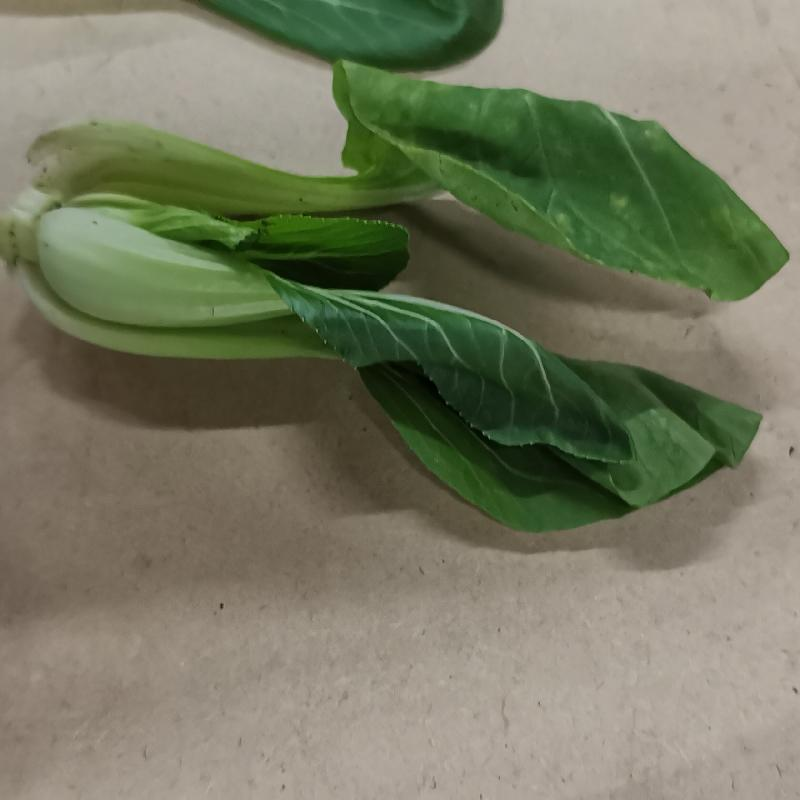green vegatable: (13, 61, 791, 536)
